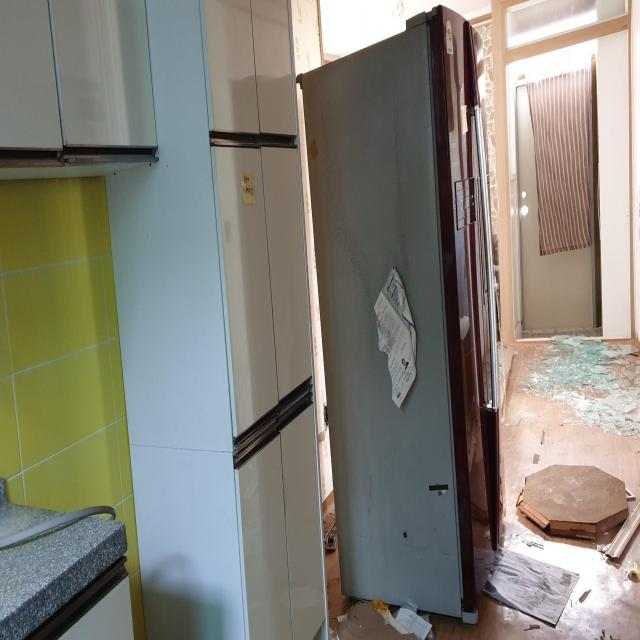refrigerator: (294, 5, 506, 628)
